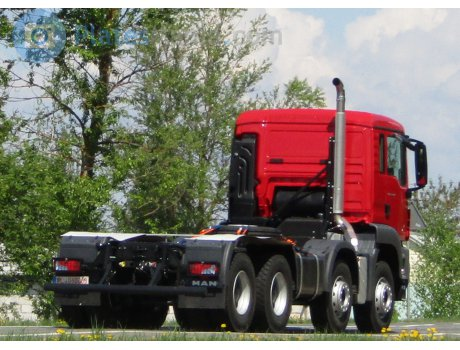License Plates: (52, 275, 90, 283)
